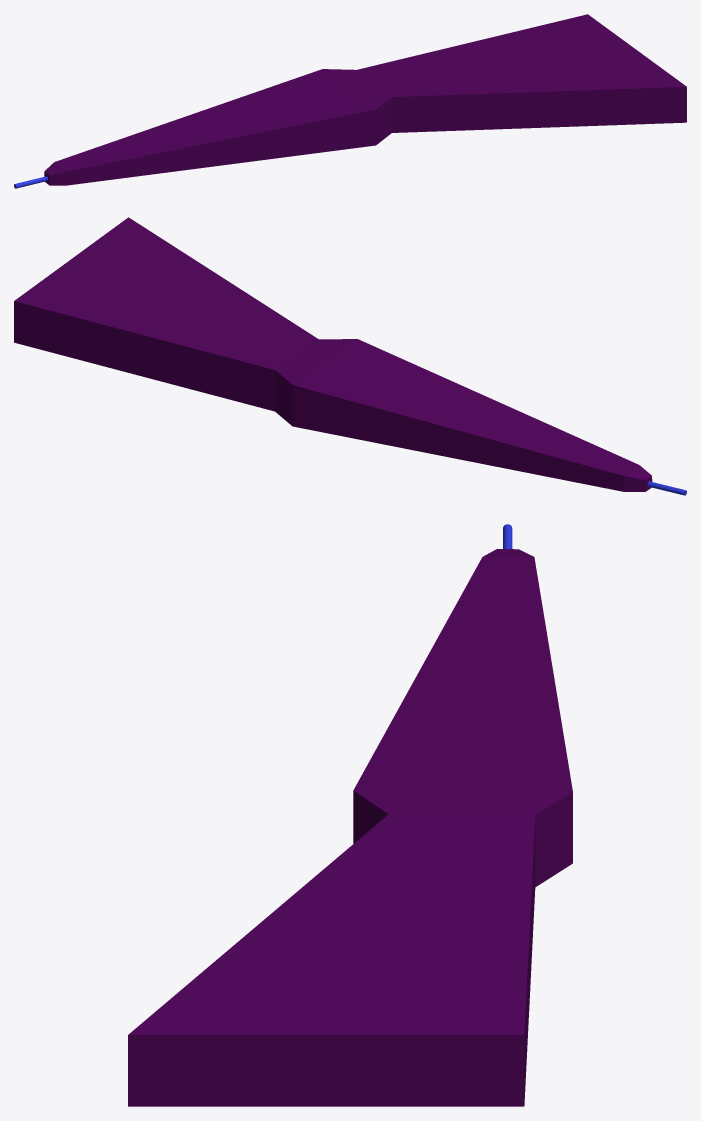
Rendered from weapon2.fbx.
3 views of the same model, one above another, from view 1: azimuth 30°, elevation 25°; view 2: azimuth 150°, elevation 25°; view 3: azimuth 270°, elevation 25° (orthographic). The views are drawn at different scales.
Parts seen in each view (by area): view 1: Cube; view 2: Cube; view 3: Cube.
Boxes of the visible parts, x1,y1,x2,y2 form: Cube: [44, 14, 686, 185]; Cube: [14, 217, 652, 491]; Cube: [128, 549, 572, 1106].
Size of the model in its own units: 351 by 22.01 by 117.
